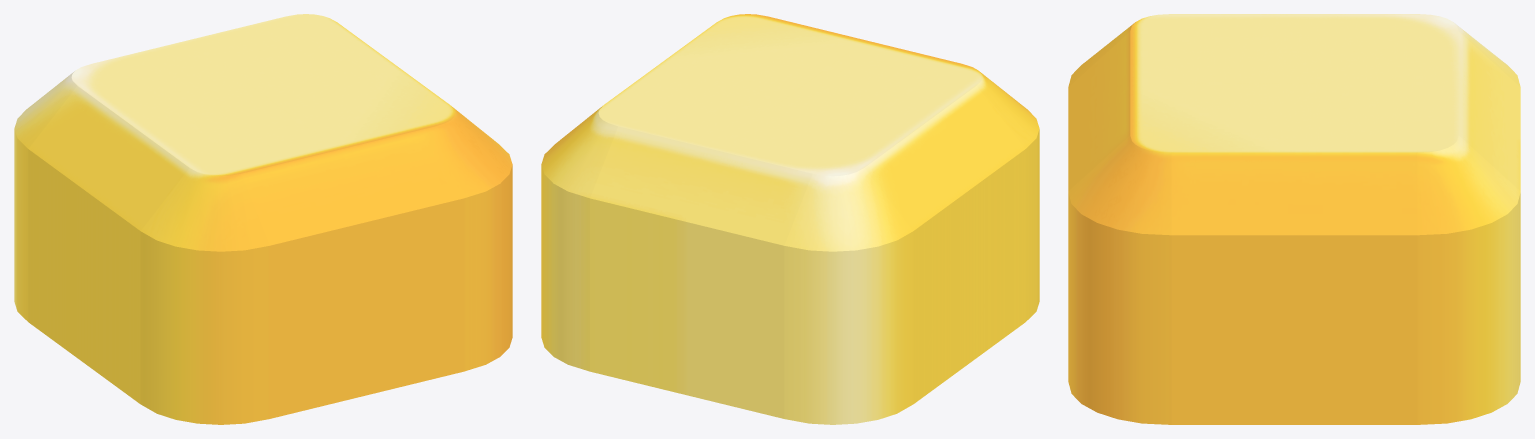
Rendered from Block_1x1_Yellow.glb.
3 renders of one model, left to right at view 1: azimuth 30°, elevation 25°; view 2: azimuth 150°, elevation 25°; view 3: azimuth 270°, elevation 25°, orthographic. The views are drawn at different scales.
Parts seen in each view (by area): view 1: Edge_Bottom, FrontFace, Edge_Left, Corner_BottomLeft, Corner_BottomRight, Corner_TopLeft; view 2: Edge_Top, FrontFace, Edge_Left, Corner_TopLeft, Corner_TopRight, Corner_BottomLeft; view 3: Edge_Right, FrontFace, Corner_TopRight, Corner_BottomRight, Edge_Top, Edge_Bottom, Corner_TopLeft, Corner_BottomLeft.
Part boxes in pixels (<box>): Edge_Bottom: <box>241,126,463,418</box>; FrontFace: <box>71,14,455,176</box>; Edge_Left: <box>28,86,189,403</box>; Corner_BottomLeft: <box>140,168,269,424</box>; Corner_BottomRight: <box>436,106,512,371</box>; Corner_TopLeft: <box>14,71,77,321</box>; Edge_Top: <box>590,126,812,418</box>; FrontFace: <box>598,14,982,176</box>; Edge_Left: <box>864,86,1025,403</box>; Corner_TopLeft: <box>784,168,913,424</box>; Corner_TopRight: <box>541,106,617,371</box>; Corner_BottomLeft: <box>976,71,1039,321</box>; Edge_Right: <box>1171,153,1417,424</box>; FrontFace: <box>1130,14,1458,152</box>; Corner_TopRight: <box>1417,135,1520,424</box>; Corner_BottomRight: <box>1068,135,1171,424</box>; Edge_Top: <box>1458,32,1520,190</box>; Edge_Bottom: <box>1068,32,1130,190</box>; Corner_TopLeft: <box>1453,22,1520,86</box>; Corner_BottomLeft: <box>1068,22,1135,86</box>.
Bounding box in the file's own units: 1 × 0.5995 × 1.
1 material, 1 textured.
